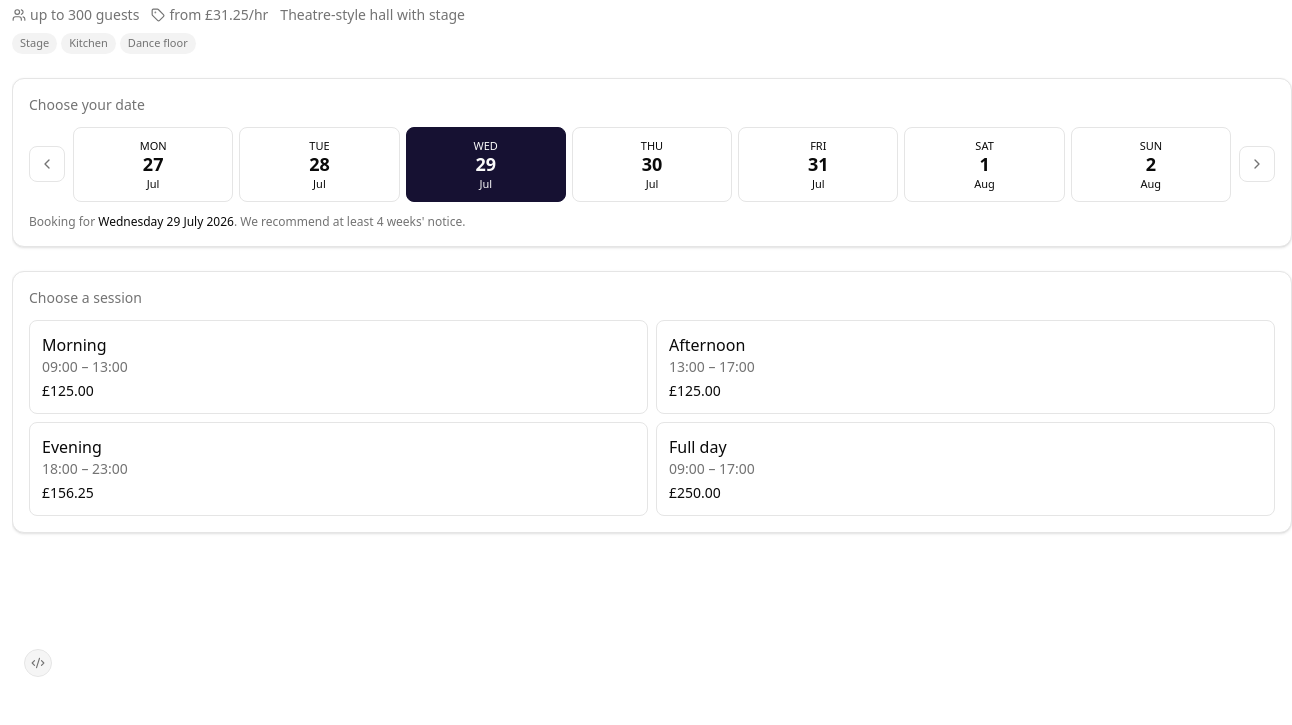
VenueHireBooking › selecting a session reveals the confirm/pay form
Click the text "Morning" at x=74, y=345, box [42,333,106,357]
(page scrolled)
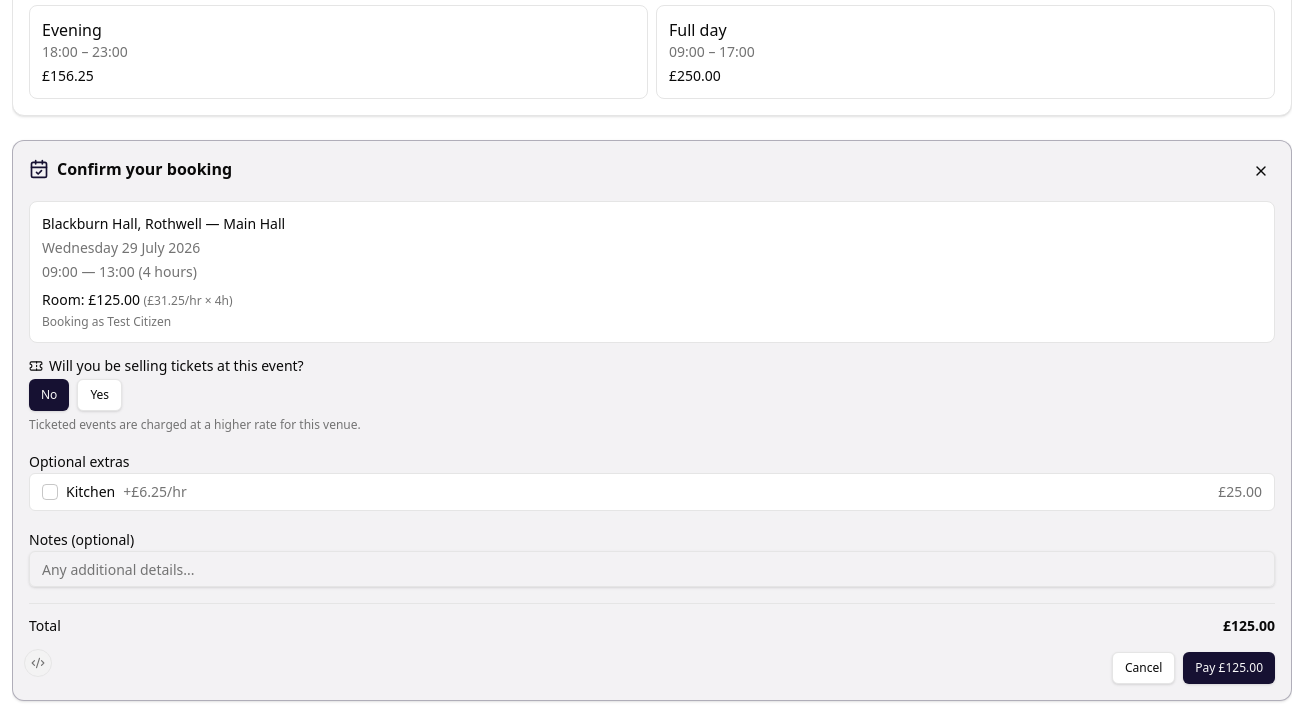
expect the heading "Confirm your booking" is shown: met, box [57,157,232,181]
expect the button "Pay £125.00" is shown: met, box [1183,652,1275,684]
